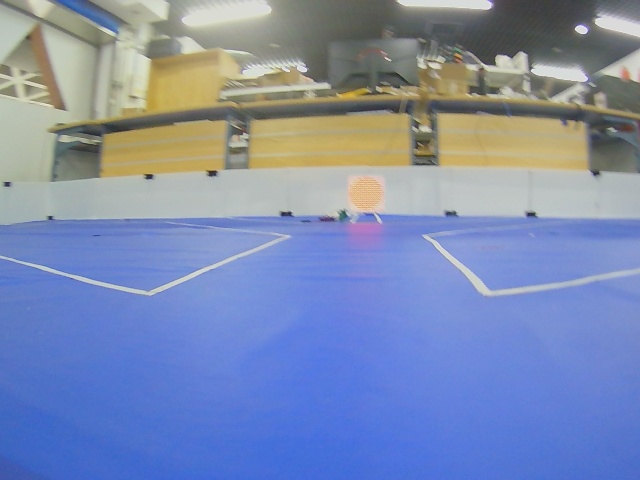red: (347, 176, 385, 213)
